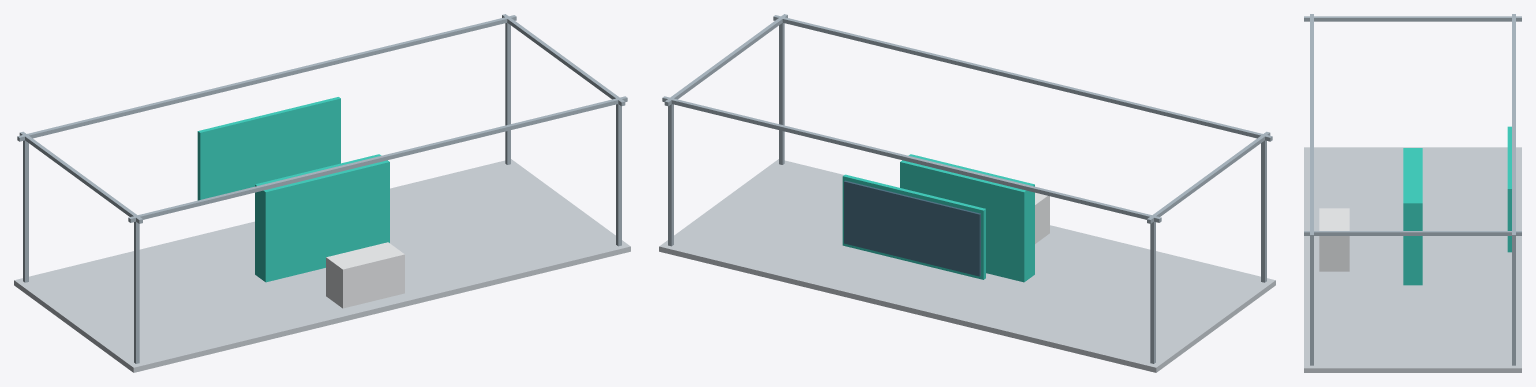
3 renders of one model, left to right at view 1: azimuth 30°, elevation 25°; view 2: azimuth 150°, elevation 25°; view 3: azimuth 270°, elevation 25°, orthographic. The views are drawn at different scales.
Visible parts, largest first — view 1: Exhibition Booth Concept; view 2: Exhibition Booth Concept; view 3: Exhibition Booth Concept.
Part boxes in pixels (box(x1,y1,x2,y2)): Exhibition Booth Concept: box(14, 14, 630, 372); Exhibition Booth Concept: box(659, 14, 1275, 372); Exhibition Booth Concept: box(1304, 14, 1521, 372).
Size of the model in its own units: 12 by 3.49 by 5.
